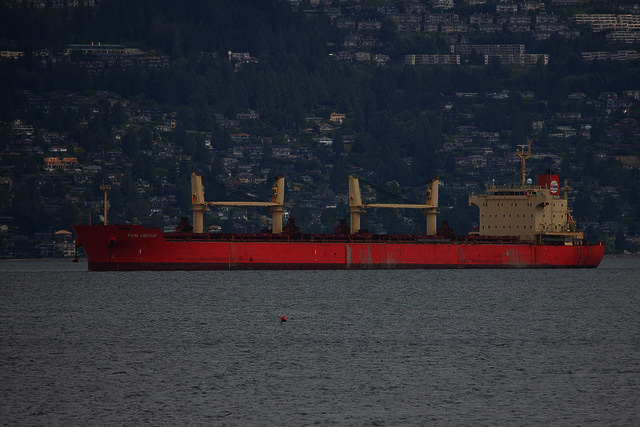bulk carrier: (70, 148, 609, 267)
